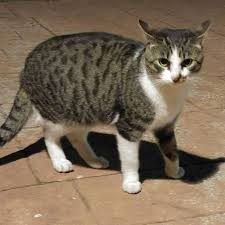cat: (1, 12, 217, 200)
